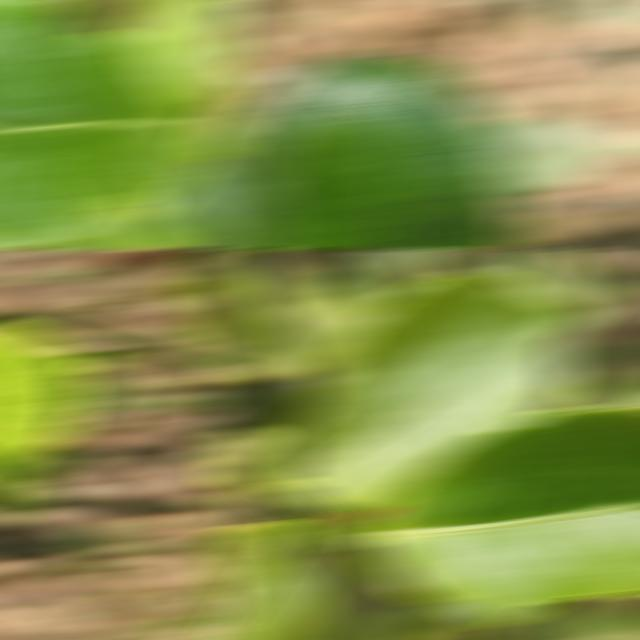Leaf: (281, 270, 588, 507), (350, 408, 640, 624), (259, 58, 527, 248), (0, 1, 207, 245), (212, 53, 363, 248), (212, 522, 323, 639), (479, 118, 630, 193), (281, 284, 382, 393), (167, 1, 236, 156), (140, 167, 236, 248), (240, 250, 319, 340), (504, 250, 605, 320), (306, 554, 385, 639), (215, 310, 306, 383), (344, 250, 443, 302), (490, 601, 617, 639), (48, 355, 114, 426), (362, 608, 430, 639), (587, 612, 640, 639)
